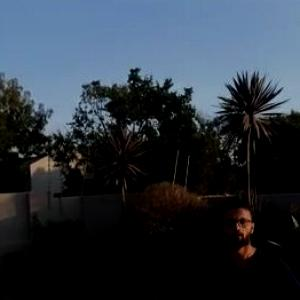follow: (199, 189, 300, 299)
